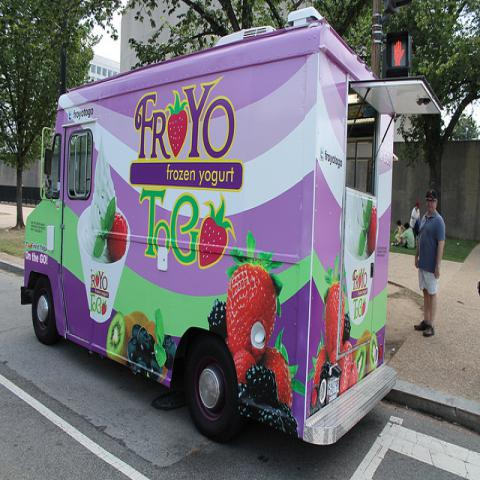truck: (21, 7, 445, 448)
